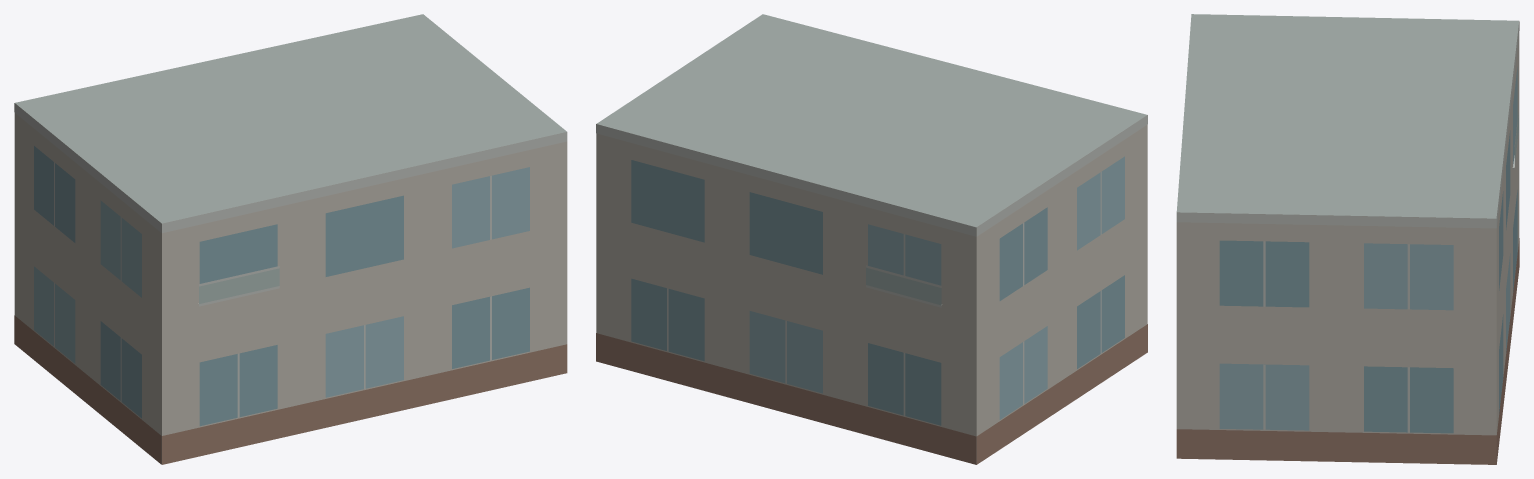
The model's file is survey-upis-32659760.glb.
3 views of the same model, side by side, from view 1: azimuth 30°, elevation 25°; view 2: azimuth 150°, elevation 25°; view 3: azimuth 270°, elevation 25° (orthographic). The views are drawn at different scales.
Parts seen in each view (by area): view 1: survey-upis-32659760.tmp; view 2: survey-upis-32659760.tmp; view 3: survey-upis-32659760.tmp.
Boxes of the visible parts, x1,y1,x2,y2 form: survey-upis-32659760.tmp: (14, 14, 567, 464); survey-upis-32659760.tmp: (596, 14, 1147, 464); survey-upis-32659760.tmp: (1176, 14, 1519, 464).
Bounding box in the file's own units: 10.88 × 6.1 × 7.71.
